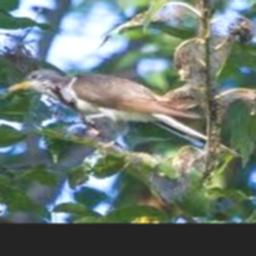Cuckoo: (9, 69, 245, 160)
